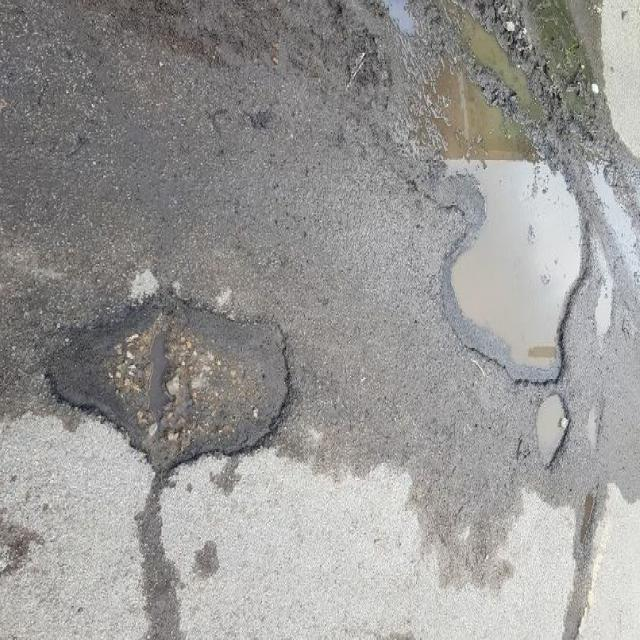Pothole: (400, 64, 594, 386), (47, 286, 299, 487), (535, 387, 576, 471)
